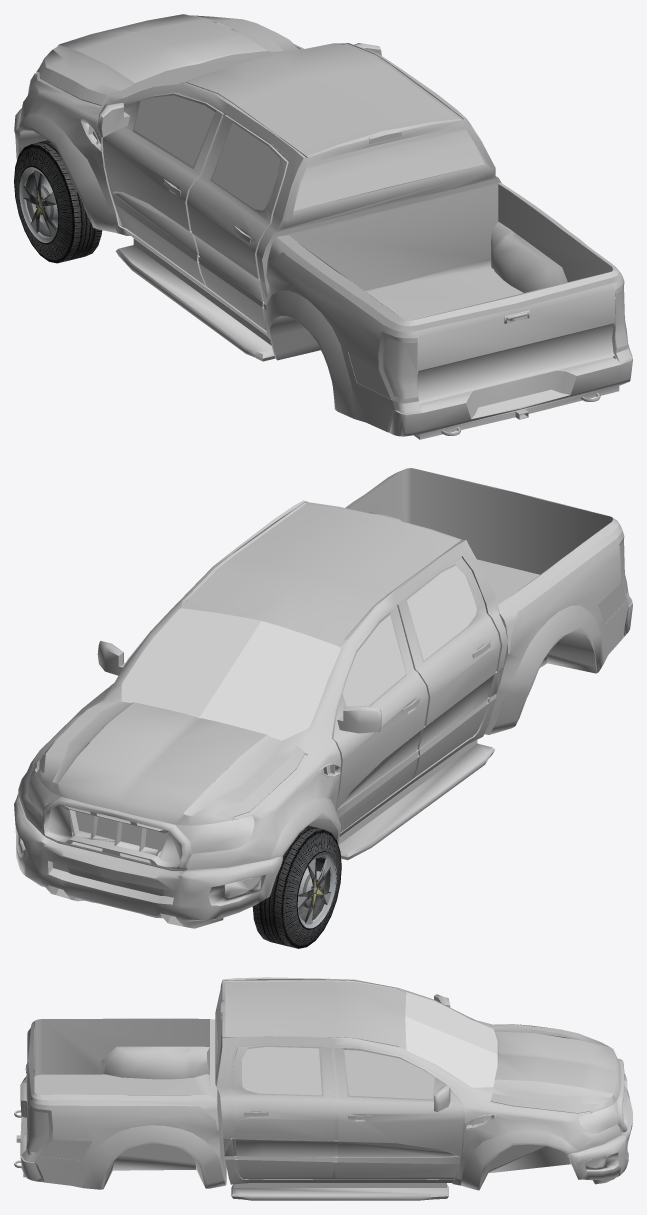
Rendered from 2019 truck.fbx.
3 renders of one model, top to bottom at view 1: azimuth 30°, elevation 25°; view 2: azimuth 150°, elevation 25°; view 3: azimuth 270°, elevation 25°, orthographic. The views are drawn at different scales.
Parts seen in each view (by area): view 1: 2019 truck body, 2019 truck interior, 2019 truck glass, 2019 truck tire; view 2: 2019 truck body, 2019 truck interior, 2019 truck glass, 2019 truck tire; view 3: 2019 truck body, 2019 truck interior, 2019 truck glass.
Part boxes in pixels (<box>): 2019 truck body: <box>19,14,632,439</box>; 2019 truck interior: <box>14,29,632,439</box>; 2019 truck glass: <box>28,44,484,210</box>; 2019 truck tire: <box>14,140,102,263</box>; 2019 truck body: <box>19,468,631,869</box>; 2019 truck interior: <box>14,468,632,928</box>; 2019 truck glass: <box>27,566,476,853</box>; 2019 truck tire: <box>252,825,341,948</box>; 2019 truck body: <box>21,977,621,1187</box>; 2019 truck interior: <box>14,994,632,1200</box>; 2019 truck glass: <box>216,986,617,1133</box>.
Size of the model in its own units: 261 by 215 by 665.
